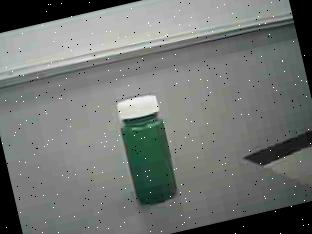Bottle C: (100, 82, 196, 222)
